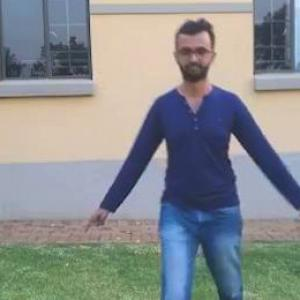land: (110, 44, 296, 299)
